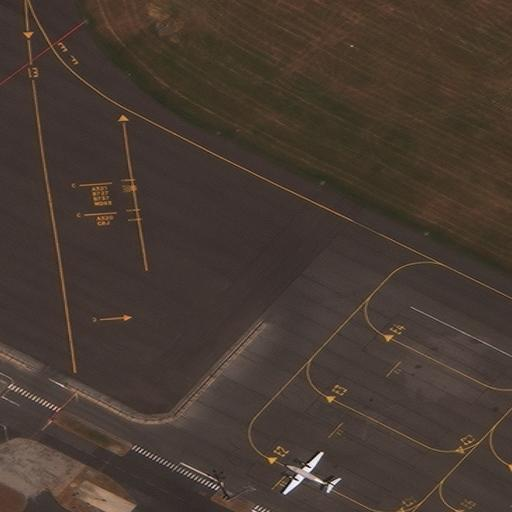Medium Civil Transport: (280, 450, 335, 493)
